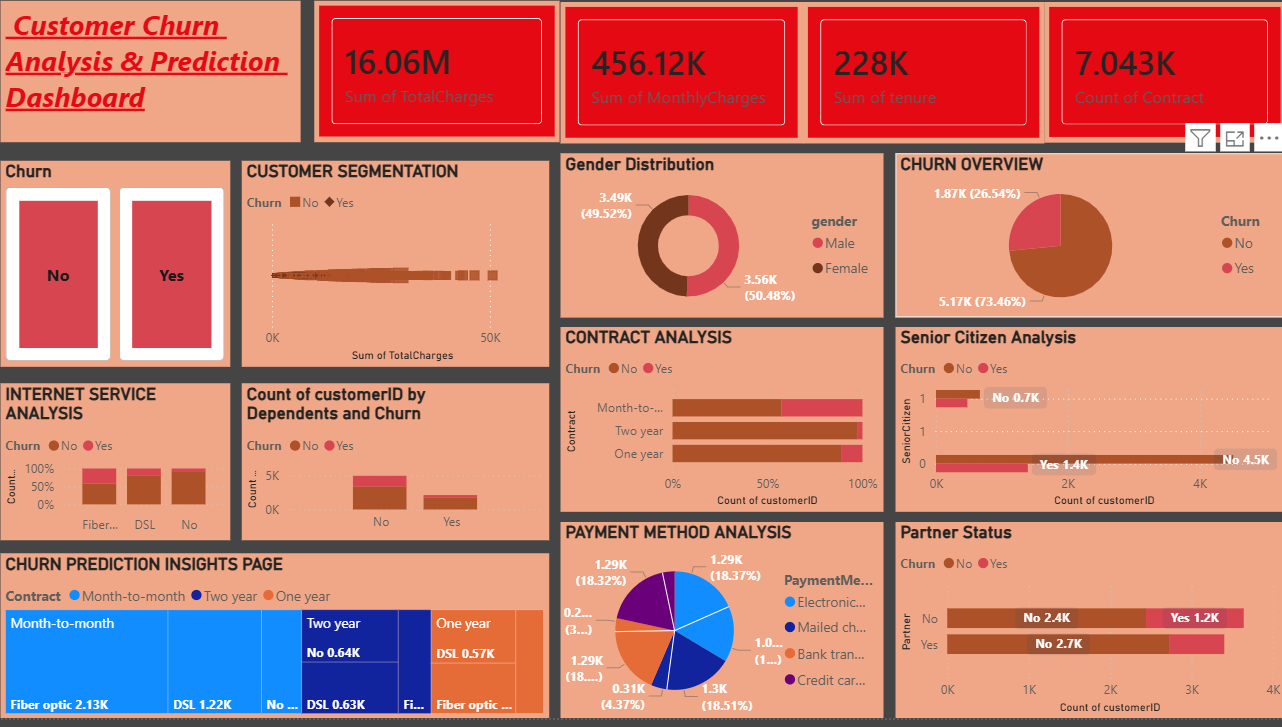

Layout of this report page (visuals, bound fields, positions):
{"tool":"powerbi","page":{"name":"Page 1","canvas":[1280,720],"ordinal":0},"visuals":[{"type":"cardVisual","fields":{"Data":["Sum(Telco_Customer_Churn_Dataset  (2).TotalCharges)"]},"box":[319.7,17.8,240.1,138.6],"z":0},{"type":"cardVisual","fields":{"Data":["Sum(Telco_Customer_Churn_Dataset  (2).MonthlyCharges)"]},"box":[559.9,19.2,237.4,138.6],"z":1000},{"type":"cardVisual","fields":{"Data":["Sum(Telco_Customer_Churn_Dataset  (2).tenure)"]},"box":[797.3,19.2,236,138.6],"z":2000},{"type":"cardVisual","fields":{"Data":["CountNonNull(Telco_Customer_Churn_Dataset  (2).Contract)"]},"box":[1033.3,19.2,236,137.2],"z":3000},{"type":"pieChart","title":"CHURN OVERVIEW","fields":{"Y":["CountNonNull(Telco_Customer_Churn_Dataset  (2).customerID)"],"Category":["Telco_Customer_Churn_Dataset  (2).Churn"]},"box":[887.8,167.4,381.5,160.5],"z":4000},{"type":"donutChart","title":"Gender Distribution","fields":{"Category":["Telco_Customer_Churn_Dataset  (2).gender"],"Y":["CountNonNull(Telco_Customer_Churn_Dataset  (2).customerID)"]},"box":[559.9,167.4,315.6,160.5],"z":5000},{"type":"clusteredBarChart","title":"Senior Citizen Analysis","fields":{"Category":["Telco_Customer_Churn_Dataset  (2).SeniorCitizen"],"Series":["Telco_Customer_Churn_Dataset  (2).Churn"],"Y":["CountNonNull(Telco_Customer_Churn_Dataset  (2).customerID)"]},"box":[887.8,337.6,381.5,181.1],"z":6000},{"type":"barChart","title":"Partner Status","fields":{"Category":["Telco_Customer_Churn_Dataset  (2).Partner"],"Series":["Telco_Customer_Churn_Dataset  (2).Churn"],"Y":["CountNonNull(Telco_Customer_Churn_Dataset  (2).customerID)"]},"box":[887.8,528.3,381.5,192.1],"z":7000},{"type":"columnChart","fields":{"Category":["Telco_Customer_Churn_Dataset  (2).Dependents"],"Y":["CountNonNull(Telco_Customer_Churn_Dataset  (2).customerID)"],"Series":["Telco_Customer_Churn_Dataset  (2).Churn"]},"box":[248.4,392.5,300.5,153.7],"z":8000},{"type":"hundredPercentStackedBarChart","title":"CONTRACT ANALYSIS","fields":{"Category":["Telco_Customer_Churn_Dataset  (2).Contract"],"Y":["CountNonNull(Telco_Customer_Churn_Dataset  (2).customerID)"],"Series":["Telco_Customer_Churn_Dataset  (2).Churn"]},"box":[559.9,337.6,315.6,181.1],"z":9000},{"type":"pieChart","title":"PAYMENT METHOD ANALYSIS","fields":{"Category":["Telco_Customer_Churn_Dataset  (2).PaymentMethod"],"Y":["CountNonNull(Telco_Customer_Churn_Dataset  (2).customerID)"],"Series":["Telco_Customer_Churn_Dataset  (2).Churn"]},"box":[559.9,528.3,315.6,192.1],"z":10000},{"type":"hundredPercentStackedColumnChart","title":"INTERNET SERVICE ANALYSIS","fields":{"Category":["Telco_Customer_Churn_Dataset  (2).InternetService"],"Y":["CountNonNull(Telco_Customer_Churn_Dataset  (2).customerID)"],"Series":["Telco_Customer_Churn_Dataset  (2).Churn"]},"box":[12.3,392.5,225,153.7],"z":11000},{"type":"treemap","title":"CHURN PREDICTION INSIGHTS PAGE","fields":{"Group":["Telco_Customer_Churn_Dataset  (2).Contract"],"Details":["Telco_Customer_Churn_Dataset  (2).InternetService"],"Values":["CountNonNull(Telco_Customer_Churn_Dataset  (2).Churn)"]},"box":[12.3,558.5,536.5,161.9],"z":12000},{"type":"scatterChart","title":"CUSTOMER SEGMENTATION","fields":{"Category":["Telco_Customer_Churn_Dataset  (2).MonthlyCharges"],"X":["Sum(Telco_Customer_Churn_Dataset  (2).TotalCharges)"],"Series":["Telco_Customer_Churn_Dataset  (2).Churn"],"Size":["Sum(Telco_Customer_Churn_Dataset  (2).tenure)"]},"box":[248.4,174.3,300.5,201.7],"z":13000},{"type":"textbox","box":[12.3,17.8,293.7,138.6],"z":15000},{"type":"advancedSlicerVisual","fields":{"Values":["Telco_Customer_Churn_Dataset  (2).Churn"]},"box":[12.3,174.3,225,201.7],"z":15001}]}

Visuals, with their boxes in screenshot pixels (x1, y1, x2, y2), scaled from the page's 1280x720 canvas onto the 1282x727 screenshot:
cardVisual - Sum(Telco_Customer_Churn_Dataset  (2).TotalCharges): region(320, 18, 561, 158)
cardVisual - Sum(Telco_Customer_Churn_Dataset  (2).MonthlyCharges): region(561, 19, 799, 159)
cardVisual - Sum(Telco_Customer_Churn_Dataset  (2).tenure): region(799, 19, 1035, 159)
cardVisual - CountNonNull(Telco_Customer_Churn_Dataset  (2).Contract): region(1035, 19, 1271, 158)
"CHURN OVERVIEW" pieChart: region(889, 169, 1271, 331)
"Gender Distribution" donutChart: region(561, 169, 877, 331)
"Senior Citizen Analysis" clusteredBarChart: region(889, 341, 1271, 524)
"Partner Status" barChart: region(889, 533, 1271, 726)
columnChart - Telco_Customer_Churn_Dataset  (2).Dependents x CountNonNull(Telco_Customer_Churn_Dataset  (2).customerID): region(249, 396, 550, 552)
"CONTRACT ANALYSIS" hundredPercentStackedBarChart: region(561, 341, 877, 524)
"PAYMENT METHOD ANALYSIS" pieChart: region(561, 533, 877, 726)
"INTERNET SERVICE ANALYSIS" hundredPercentStackedColumnChart: region(12, 396, 238, 552)
"CHURN PREDICTION INSIGHTS PAGE" treemap: region(12, 564, 550, 726)
"CUSTOMER SEGMENTATION" scatterChart: region(249, 176, 550, 380)
textbox: region(12, 18, 306, 158)
advancedSlicerVisual - Telco_Customer_Churn_Dataset  (2).Churn: region(12, 176, 238, 380)
